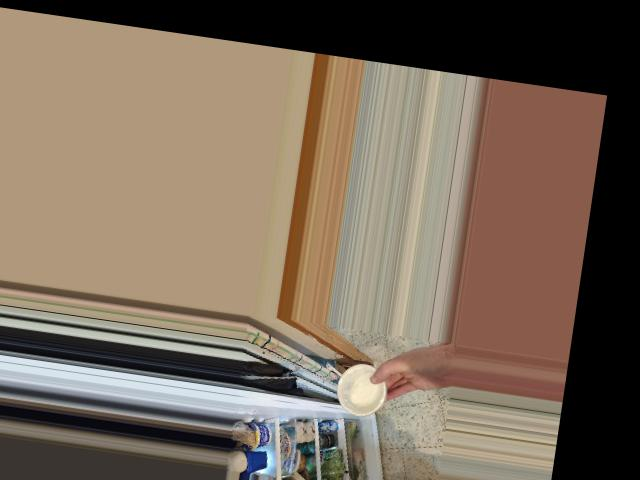cotage: (334, 363, 386, 417)
